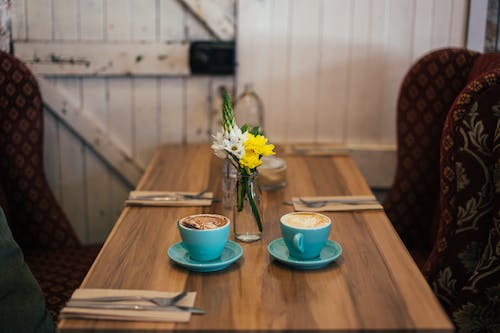knife: (59, 301, 210, 316), (280, 196, 385, 207), (124, 195, 222, 203)
